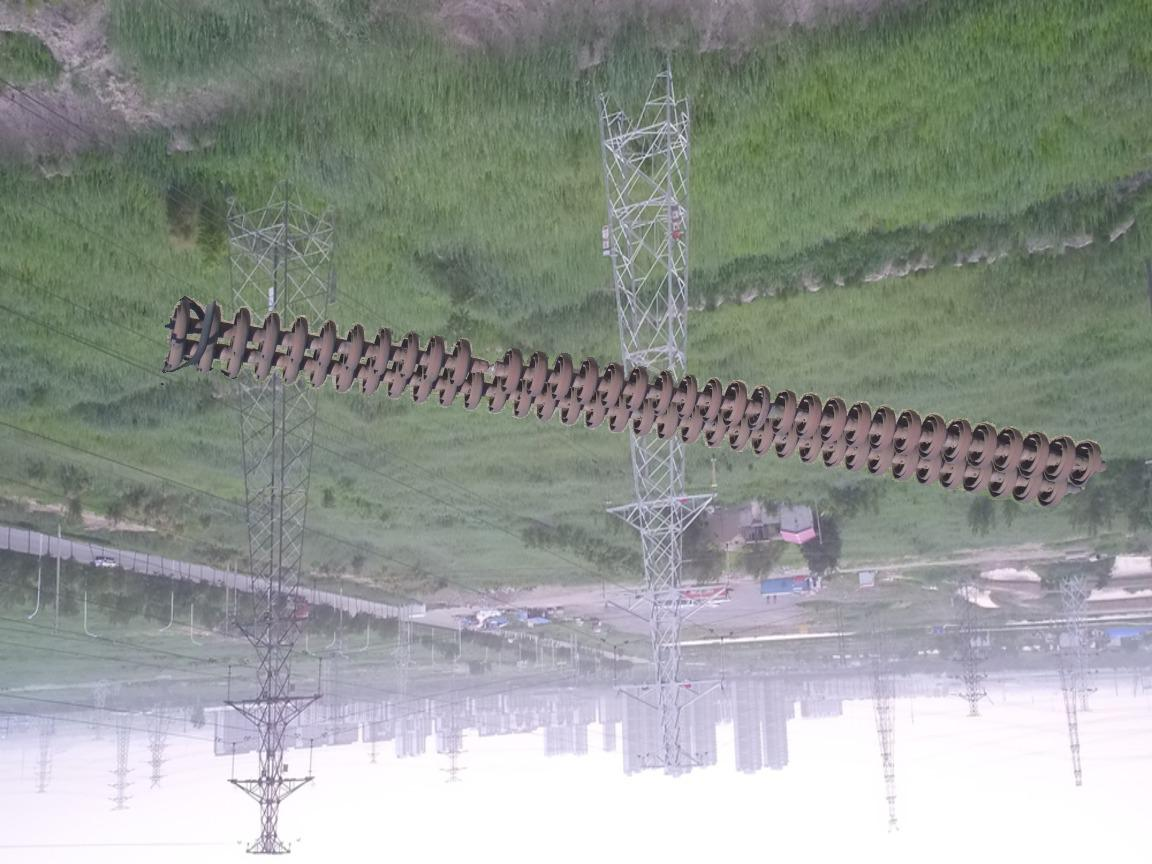insulator: (159, 295, 1109, 514)
insulator_stringdrop: (444, 335, 526, 399)
